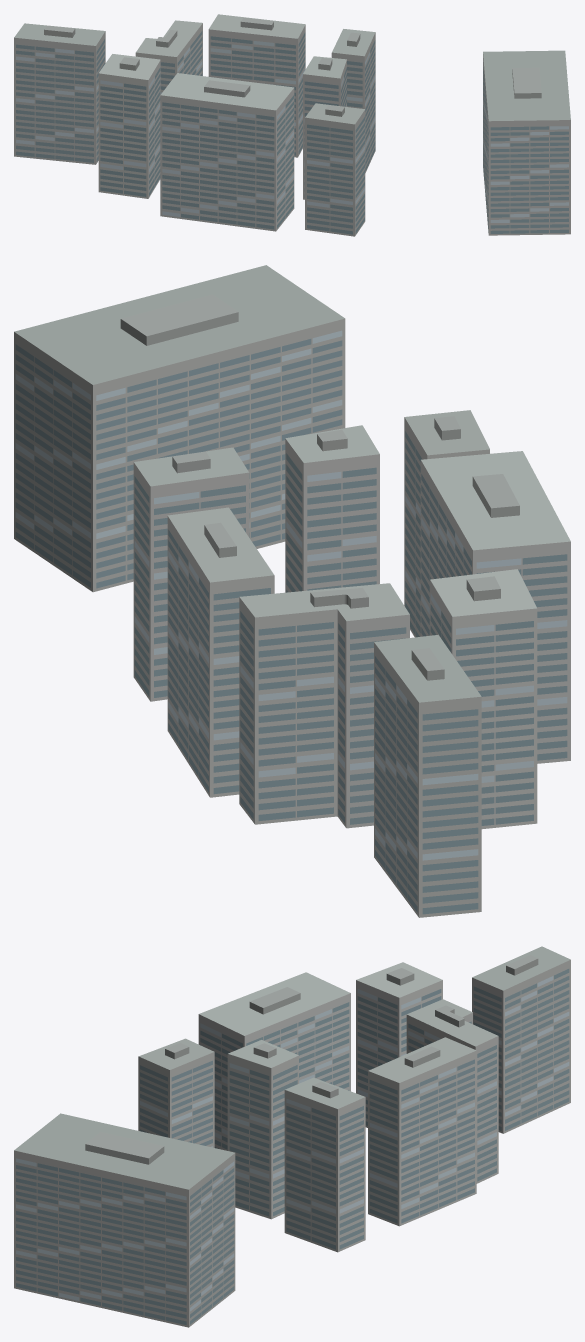
The model's file is apt-a12180506.glb.
3 renders of one model, top to bottom at view 1: azimuth 30°, elevation 25°; view 2: azimuth 150°, elevation 25°; view 3: azimuth 270°, elevation 25°, orthographic. The views are drawn at different scales.
Parts seen in each view (by area): view 1: apt-a12180506; view 2: apt-a12180506; view 3: apt-a12180506.
Boxes of the visible parts, <box> form: apt-a12180506: <box>14,14,570,236</box>; apt-a12180506: <box>14,265,570,917</box>; apt-a12180506: <box>14,946,570,1327</box>.
Size of the model in its own units: 191 by 59 by 189.
